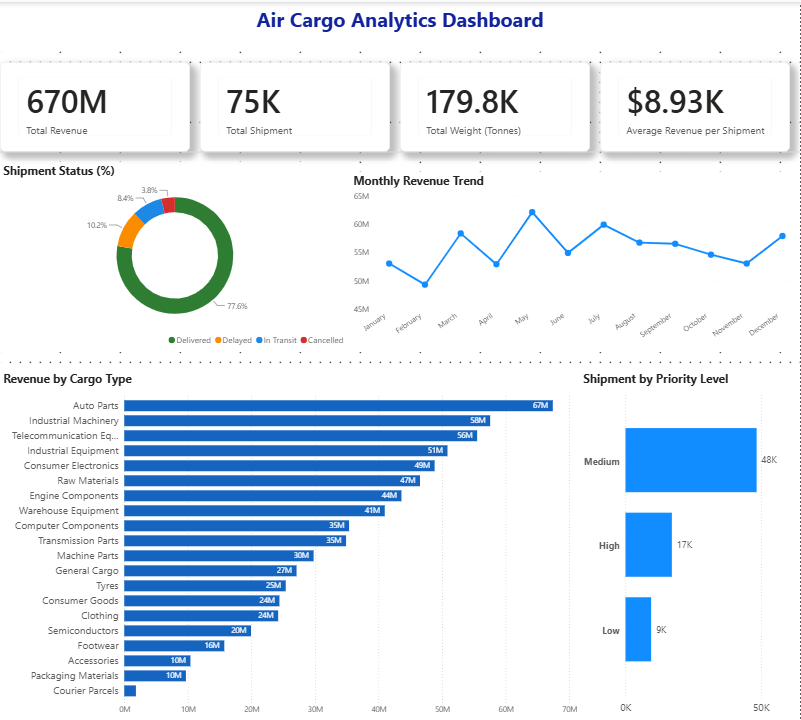

Layout of this report page (visuals, bound fields, positions):
{"tool":"powerbi","page":{"name":"Air Cargo Analytics Dashboard","canvas":[1280,1150],"ordinal":0},"visuals":[{"type":"barChart","title":"Revenue by Cargo Type","fields":{"Category":["warehouse fact_shipments.cargo_type"],"Y":["warehouse fact_shipments.Total Revenue"]},"box":[0,590,928,560],"z":0},{"type":"lineChart","title":"Monthly Revenue Trend","fields":{"Category":["warehouse dim_date.full_date.Variation.Date Hierarchy.Year","warehouse dim_date.full_date.Variation.Date Hierarchy.Quarter","warehouse dim_date.full_date.Variation.Date Hierarchy.Month","warehouse dim_date.full_date.Variation.Date Hierarchy.Day"],"Y":["warehouse fact_shipments.Total Revenue"]},"box":[560,272,720,288],"z":1000},{"type":"donutChart","title":"Shipment Status (%)","fields":{"Category":["warehouse fact_shipments.shipment_status"],"Y":["warehouse fact_shipments.Total Shipment"]},"box":[0,256,560,304],"z":2000},{"type":"barChart","title":"Shipment by Priority Level","fields":{"Category":["warehouse fact_shipments.priority_level"],"Y":["warehouse fact_shipments.Total Shipment"]},"box":[928,590,352,560],"z":3000},{"type":"textbox","box":[0,0,1280.3,75.8],"z":4000},{"type":"cardVisual","fields":{"Data":["warehouse fact_shipments.Total Revenue"]},"box":[0,96,304,144],"z":5000},{"type":"cardVisual","fields":{"Data":["warehouse fact_shipments.Total Shipment"]},"box":[320,96,304,144],"z":6000},{"type":"cardVisual","fields":{"Data":["warehouse fact_shipments.Total Weight"]},"box":[640,96,304,144],"z":7000},{"type":"cardVisual","fields":{"Data":["warehouse fact_shipments.Average Revenue"]},"box":[960,96,304,144],"z":8000},{"type":"shape","box":[0,96,1280,288],"z":9000}]}

Visuals, with their boxes in screenshot pixels (x1, y1, x2, y2), scaled from the page's 1280x1150 canvas onto the 801x720 screenshot:
"Revenue by Cargo Type" barChart: detection(0, 369, 581, 719)
"Monthly Revenue Trend" lineChart: detection(350, 170, 800, 351)
"Shipment Status (%)" donutChart: detection(0, 160, 350, 351)
"Shipment by Priority Level" barChart: detection(581, 369, 800, 719)
textbox: detection(0, 0, 800, 47)
cardVisual - warehouse fact_shipments.Total Revenue: detection(0, 60, 190, 150)
cardVisual - warehouse fact_shipments.Total Shipment: detection(200, 60, 390, 150)
cardVisual - warehouse fact_shipments.Total Weight: detection(400, 60, 591, 150)
cardVisual - warehouse fact_shipments.Average Revenue: detection(601, 60, 791, 150)
shape: detection(0, 60, 800, 240)
